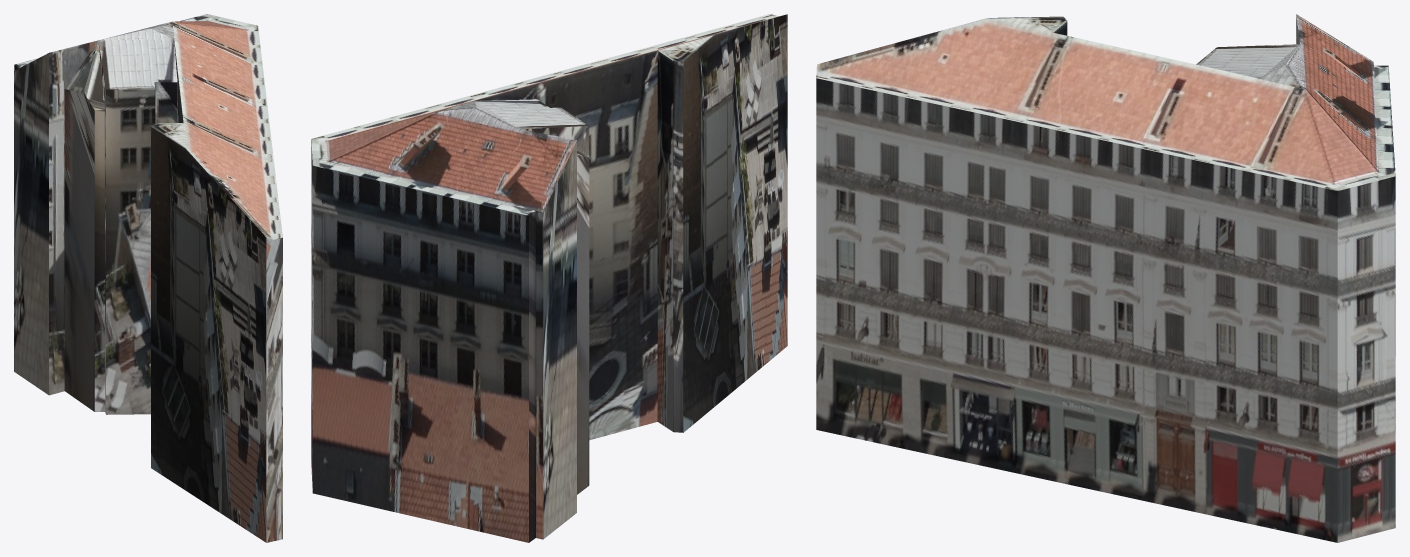
The picture shows the model from 3 angles, left to right: view 1: azimuth 30°, elevation 25°; view 2: azimuth 150°, elevation 25°; view 3: azimuth 270°, elevation 25°; orthographic projection. The views are drawn at different scales.
Visible parts, largest first — view 1: Z_UP; view 2: Z_UP; view 3: Z_UP.
Boxes of the visible parts, x1,y1,x2,y2 form: Z_UP: [14, 14, 282, 542]; Z_UP: [311, 14, 787, 542]; Z_UP: [816, 14, 1395, 542].
Bounding box in the file's own units: 18.52 × 26.84 × 34.83.
Materials: 2 (1 with a texture image).
